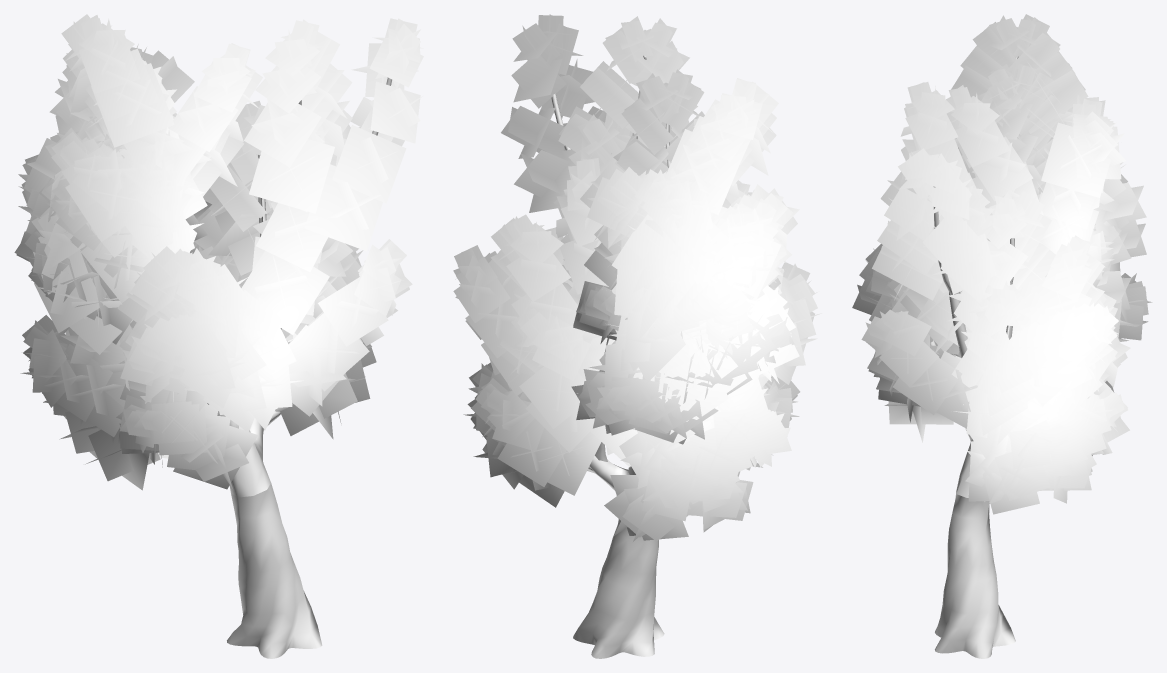
File: arbre_2.glb
The picture shows the model from 3 angles, left to right: view 1: azimuth 30°, elevation 25°; view 2: azimuth 150°, elevation 25°; view 3: azimuth 270°, elevation 25°; orthographic projection. The views are drawn at different scales.
Parts seen in each view (by area): view 1: TwistedTree_2, TwistedTree_2-col; view 2: TwistedTree_2, TwistedTree_2-col; view 3: TwistedTree_2, TwistedTree_2-col.
Boxes of the visible parts, <box> form: TwistedTree_2: <box>14,14,423,497</box>; TwistedTree_2-col: <box>227,483,322,658</box>; TwistedTree_2: <box>453,14,821,541</box>; TwistedTree_2-col: <box>573,519,664,658</box>; TwistedTree_2: <box>852,14,1152,514</box>; TwistedTree_2-col: <box>935,493,1015,658</box>.
Size of the model in its own units: 10.56 by 18.95 by 9.2.
2 materials, 1 textured.
